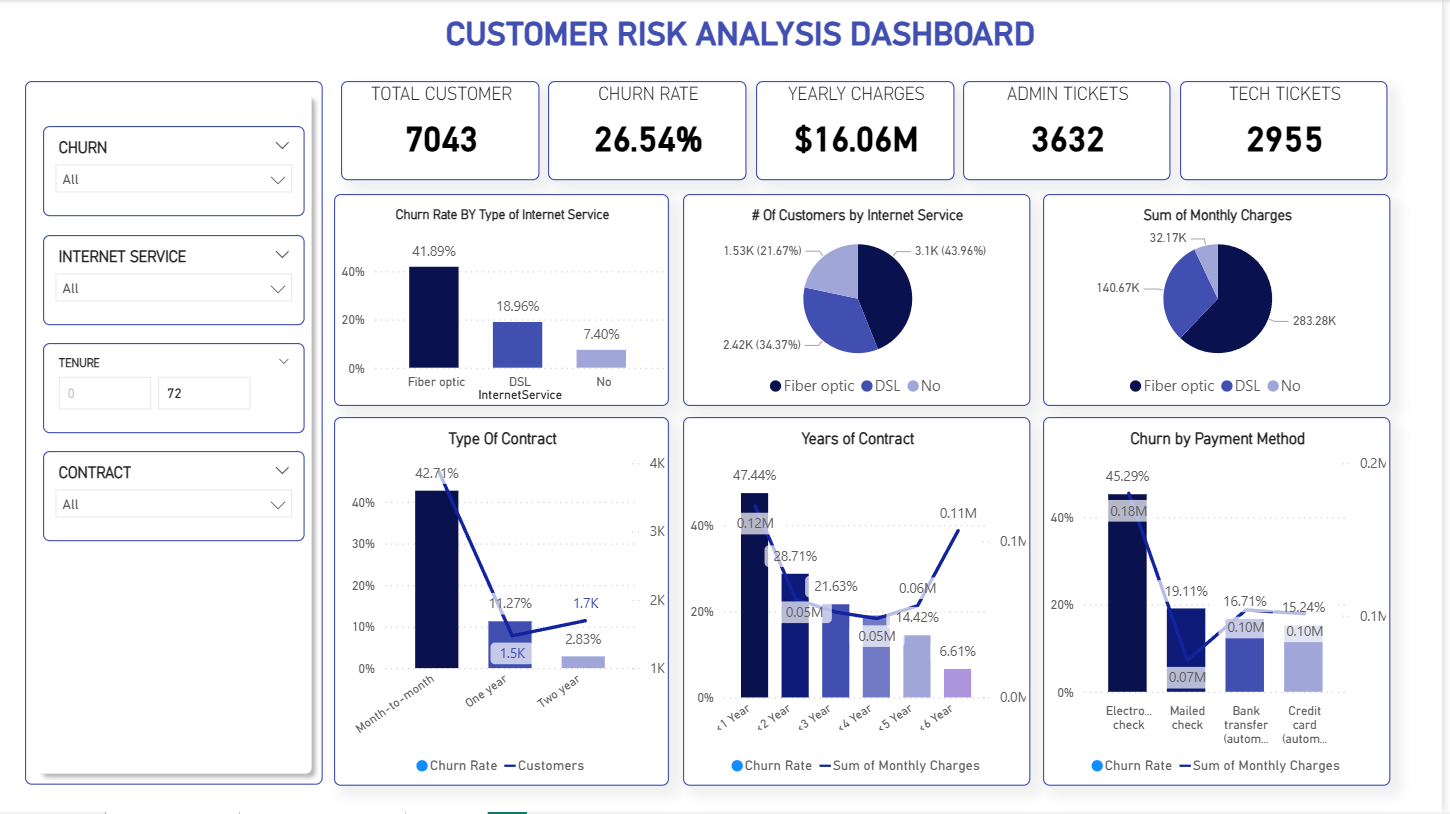

This screenshot's page, from the dashboard's own definition file:
{"tool":"powerbi","page":{"name":"Customer Risk Analysis","canvas":[1280,720],"ordinal":1},"visuals":[{"type":"shape","box":[0,0,1280,49],"z":0},{"type":"textbox","box":[392,8,760,48],"z":1000},{"type":"shape","box":[24,72,264,624],"z":2000},{"type":"slicer","fields":{"Values":["Churn.Churn"]},"box":[40,112,232,80],"z":3000},{"type":"slicer","fields":{"Values":["Churn.InternetService"]},"box":[40,208,232,80],"z":4000},{"type":"slicer","fields":{"Values":["Churn.tenure"]},"box":[40,304,232,80],"z":5000},{"type":"slicer","fields":{"Values":["Churn.Contract"]},"box":[40,400,232,80],"z":6000},{"type":"card","title":"TOTAL CUSTOMER","fields":{"Values":["CountNonNull(01 Churn-Dataset.customerID)"]},"box":[304,72,176,88],"z":7000},{"type":"card","title":"CHURN RATE","fields":{"Values":["Churn.% Churn Rate"]},"box":[488,72,176,88],"z":8000},{"type":"card","title":"YEARLY CHARGES","fields":{"Values":["Sum(Churn.TotalCharges)"]},"box":[672,72,176,88],"z":9000},{"type":"card","title":"ADMIN TICKETS","fields":{"Values":["Sum(Churn.numAdminTickets)"]},"box":[856,72,184,88],"z":10000},{"type":"card","title":"TECH TICKETS","fields":{"Values":["Sum(Churn.numTechTickets)"]},"box":[1048,72,184,88],"z":11000},{"type":"columnChart","title":"Churn Rate BY Type of Internet Service","fields":{"Y":["Churn.% Churn Rate"],"Category":["Churn.InternetService"]},"box":[298,172,297,188],"z":12000},{"type":"pieChart","title":"# Of Customers by Internet Service","fields":{"Y":["CountNonNull(Churn.customerID)"],"Category":["Churn.InternetService"]},"box":[607,172,308,188],"z":13000},{"type":"pieChart","title":"Sum of Monthly Charges","fields":{"Category":["Churn.InternetService"],"Y":["Sum(Churn.MonthlyCharges)"]},"box":[927,172,308,188],"z":14000},{"type":"lineStackedColumnComboChart","title":"Type Of Contract","fields":{"Y2":["CountNonNull(Churn.customerID)"],"Y":["Churn.% Churn Rate"],"Category":["Churn.Contract"]},"box":[298,370,297,327],"z":15000},{"type":"lineStackedColumnComboChart","title":"Years of Contract","fields":{"Y":["Churn.% Churn Rate"],"Y2":["Sum(Churn.MonthlyCharges)"],"Category":["Churn.Tenure(in years)"]},"box":[607,370,308,327],"z":16000},{"type":"lineStackedColumnComboChart","title":"Churn by Payment Method","fields":{"Y":["Churn.% Churn Rate"],"Y2":["Sum(Churn.MonthlyCharges)"],"Category":["Churn.PaymentMethod"]},"box":[927,370,308,327],"z":17000}]}

Visuals, with their boxes in screenshot pixels (x1, y1, x2, y2), scaled from the page's 1280x720 canvas onto the 1450x814 screenshot:
shape: region(0, 0, 1449, 55)
textbox: region(444, 9, 1305, 63)
shape: region(27, 81, 326, 787)
slicer - Churn.Churn: region(45, 127, 308, 217)
slicer - Churn.InternetService: region(45, 235, 308, 326)
slicer - Churn.tenure: region(45, 344, 308, 434)
slicer - Churn.Contract: region(45, 452, 308, 543)
"TOTAL CUSTOMER" card: region(344, 81, 544, 181)
"CHURN RATE" card: region(553, 81, 752, 181)
"YEARLY CHARGES" card: region(761, 81, 961, 181)
"ADMIN TICKETS" card: region(970, 81, 1178, 181)
"TECH TICKETS" card: region(1187, 81, 1396, 181)
"Churn Rate BY Type of Internet Service" columnChart: region(338, 194, 674, 407)
"# Of Customers by Internet Service" pieChart: region(688, 194, 1037, 407)
"Sum of Monthly Charges" pieChart: region(1050, 194, 1399, 407)
"Type Of Contract" lineStackedColumnComboChart: region(338, 418, 674, 788)
"Years of Contract" lineStackedColumnComboChart: region(688, 418, 1037, 788)
"Churn by Payment Method" lineStackedColumnComboChart: region(1050, 418, 1399, 788)
